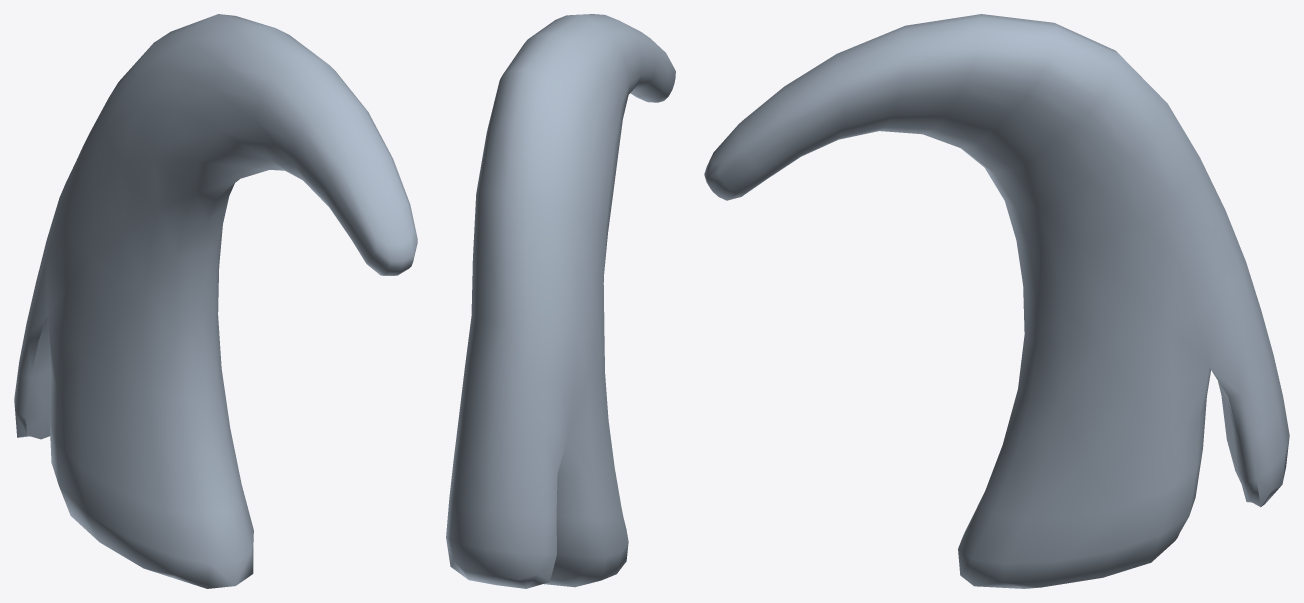
Rendered from Tail_15.fbx.
The picture shows the model from 3 angles, left to right: view 1: azimuth 30°, elevation 25°; view 2: azimuth 150°, elevation 25°; view 3: azimuth 270°, elevation 25°; orthographic projection. The views are drawn at different scales.
Visible parts, largest first — view 1: Tail_15; view 2: Tail_15; view 3: Tail_15.
Boxes of the visible parts, box(x1,y1,x2,y2) form: Tail_15: box(14, 14, 417, 588); Tail_15: box(446, 14, 675, 588); Tail_15: box(704, 14, 1289, 588).
Size of the model in its own units: 82.93 by 248 by 227.
